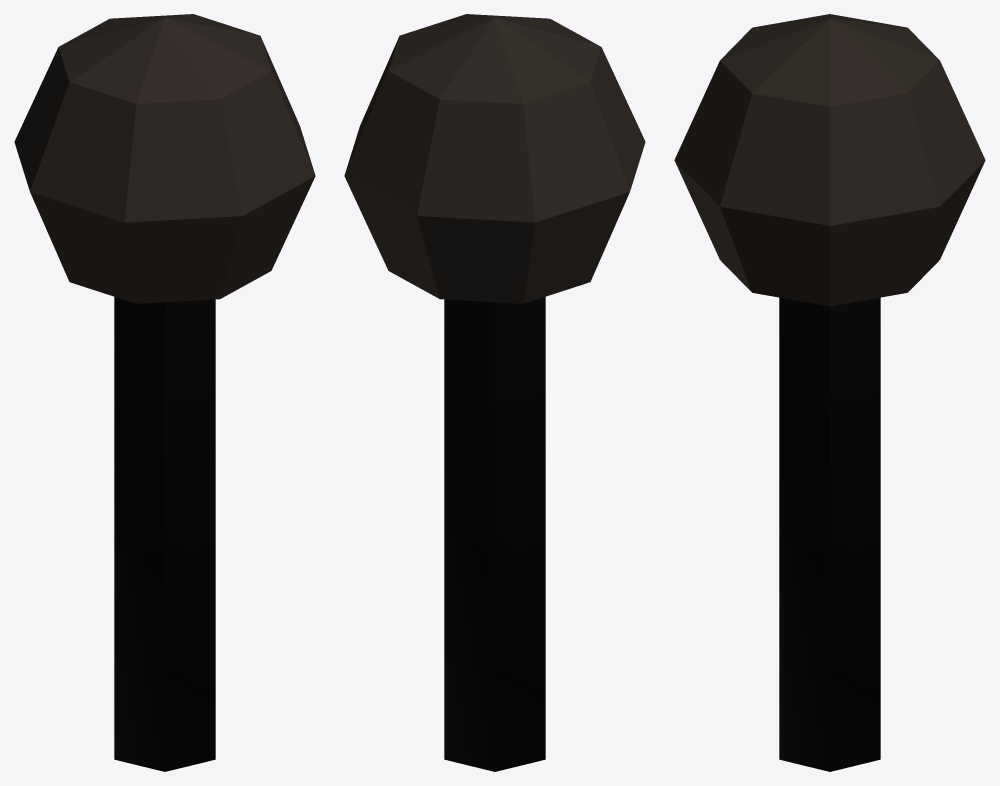
File: GearShifter.fbx
3 renders of one model, left to right at view 1: azimuth 30°, elevation 25°; view 2: azimuth 150°, elevation 25°; view 3: azimuth 270°, elevation 25°, orthographic.
Parts seen in each view (by area): view 1: GearShifter; view 2: GearShifter; view 3: GearShifter.
Boxes of the visible parts, box(x1,y1,x2,y2) form: GearShifter: box(14, 14, 315, 771); GearShifter: box(344, 14, 645, 771); GearShifter: box(674, 14, 985, 771).
Bounding box in the file's own units: 6.78 × 17.5 × 6.78.
